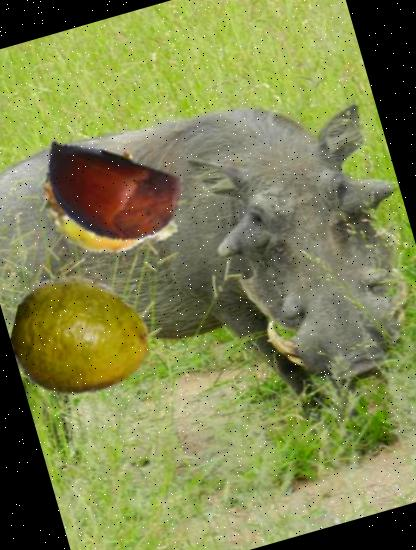Cactus: (22, 112, 203, 293)
Chestnut: (16, 104, 198, 285)
Guava: (0, 251, 169, 424)
